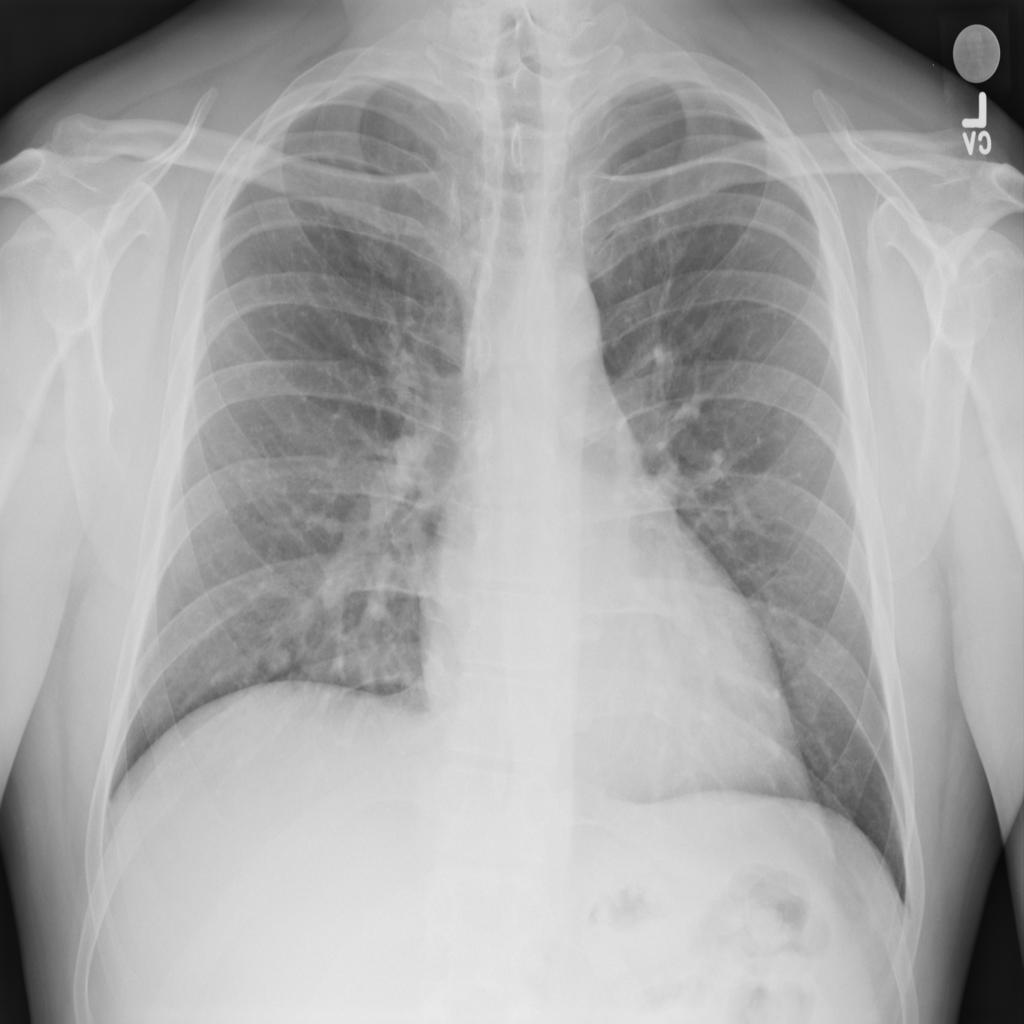nodule: (252, 631, 300, 684)
